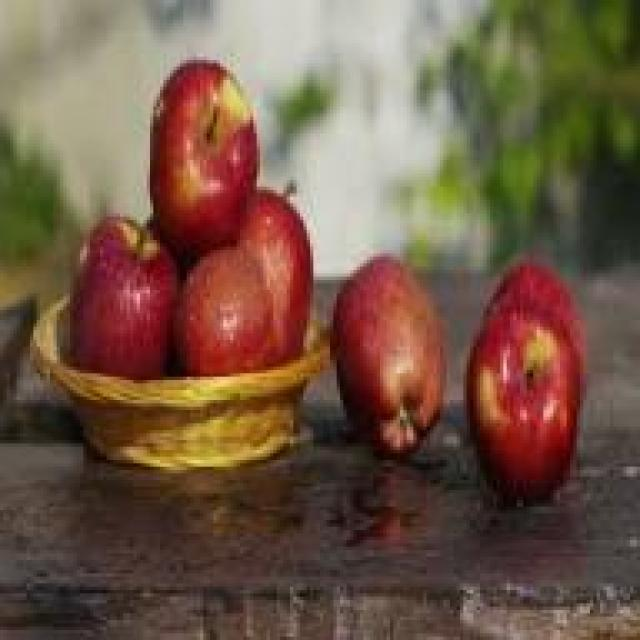apple: (327, 264, 443, 454), (464, 307, 584, 480), (64, 217, 174, 380), (157, 70, 260, 237), (233, 184, 320, 344), (174, 250, 264, 373)
